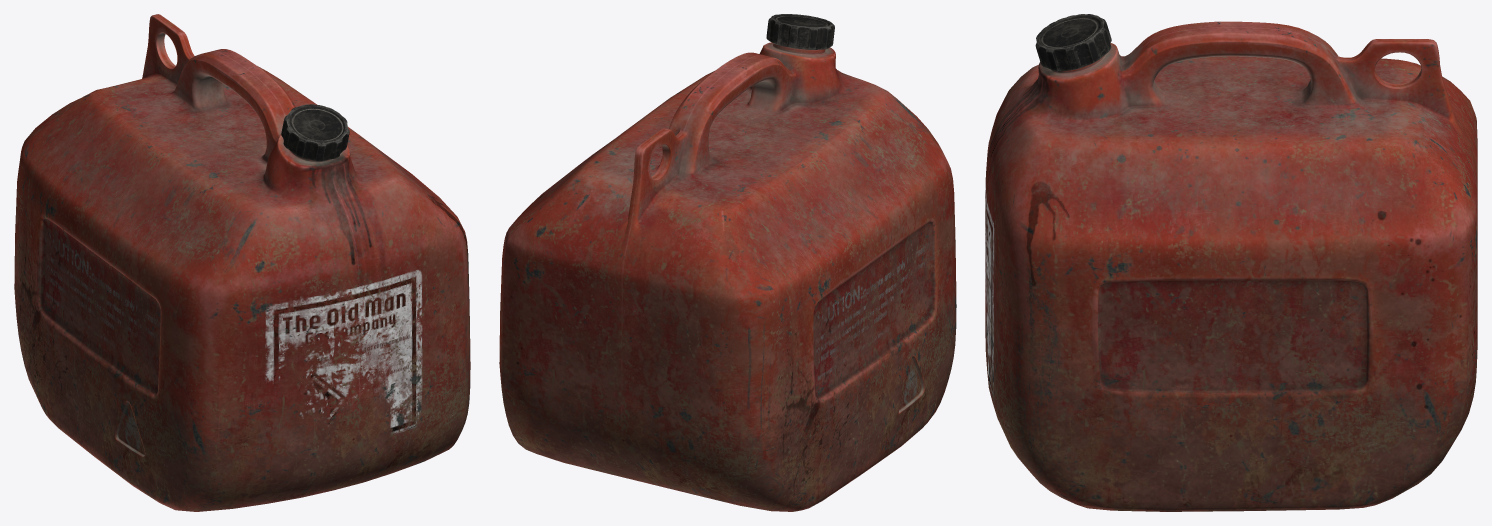
Rendered from plastic_jerrycan_4k.fbx.
The picture shows the model from 3 angles, left to right: view 1: azimuth 30°, elevation 25°; view 2: azimuth 150°, elevation 25°; view 3: azimuth 270°, elevation 25°; orthographic projection. The views are drawn at different scales.
Parts seen in each view (by area): view 1: plastic_jerrycan; view 2: plastic_jerrycan; view 3: plastic_jerrycan.
Boxes of the visible parts, <box> form: plastic_jerrycan: <box>14,14,470,511</box>; plastic_jerrycan: <box>499,14,956,511</box>; plastic_jerrycan: <box>985,14,1477,511</box>.
Size of the model in its own units: 26.8 by 31.84 by 34.09.
1 material, 1 textured.
